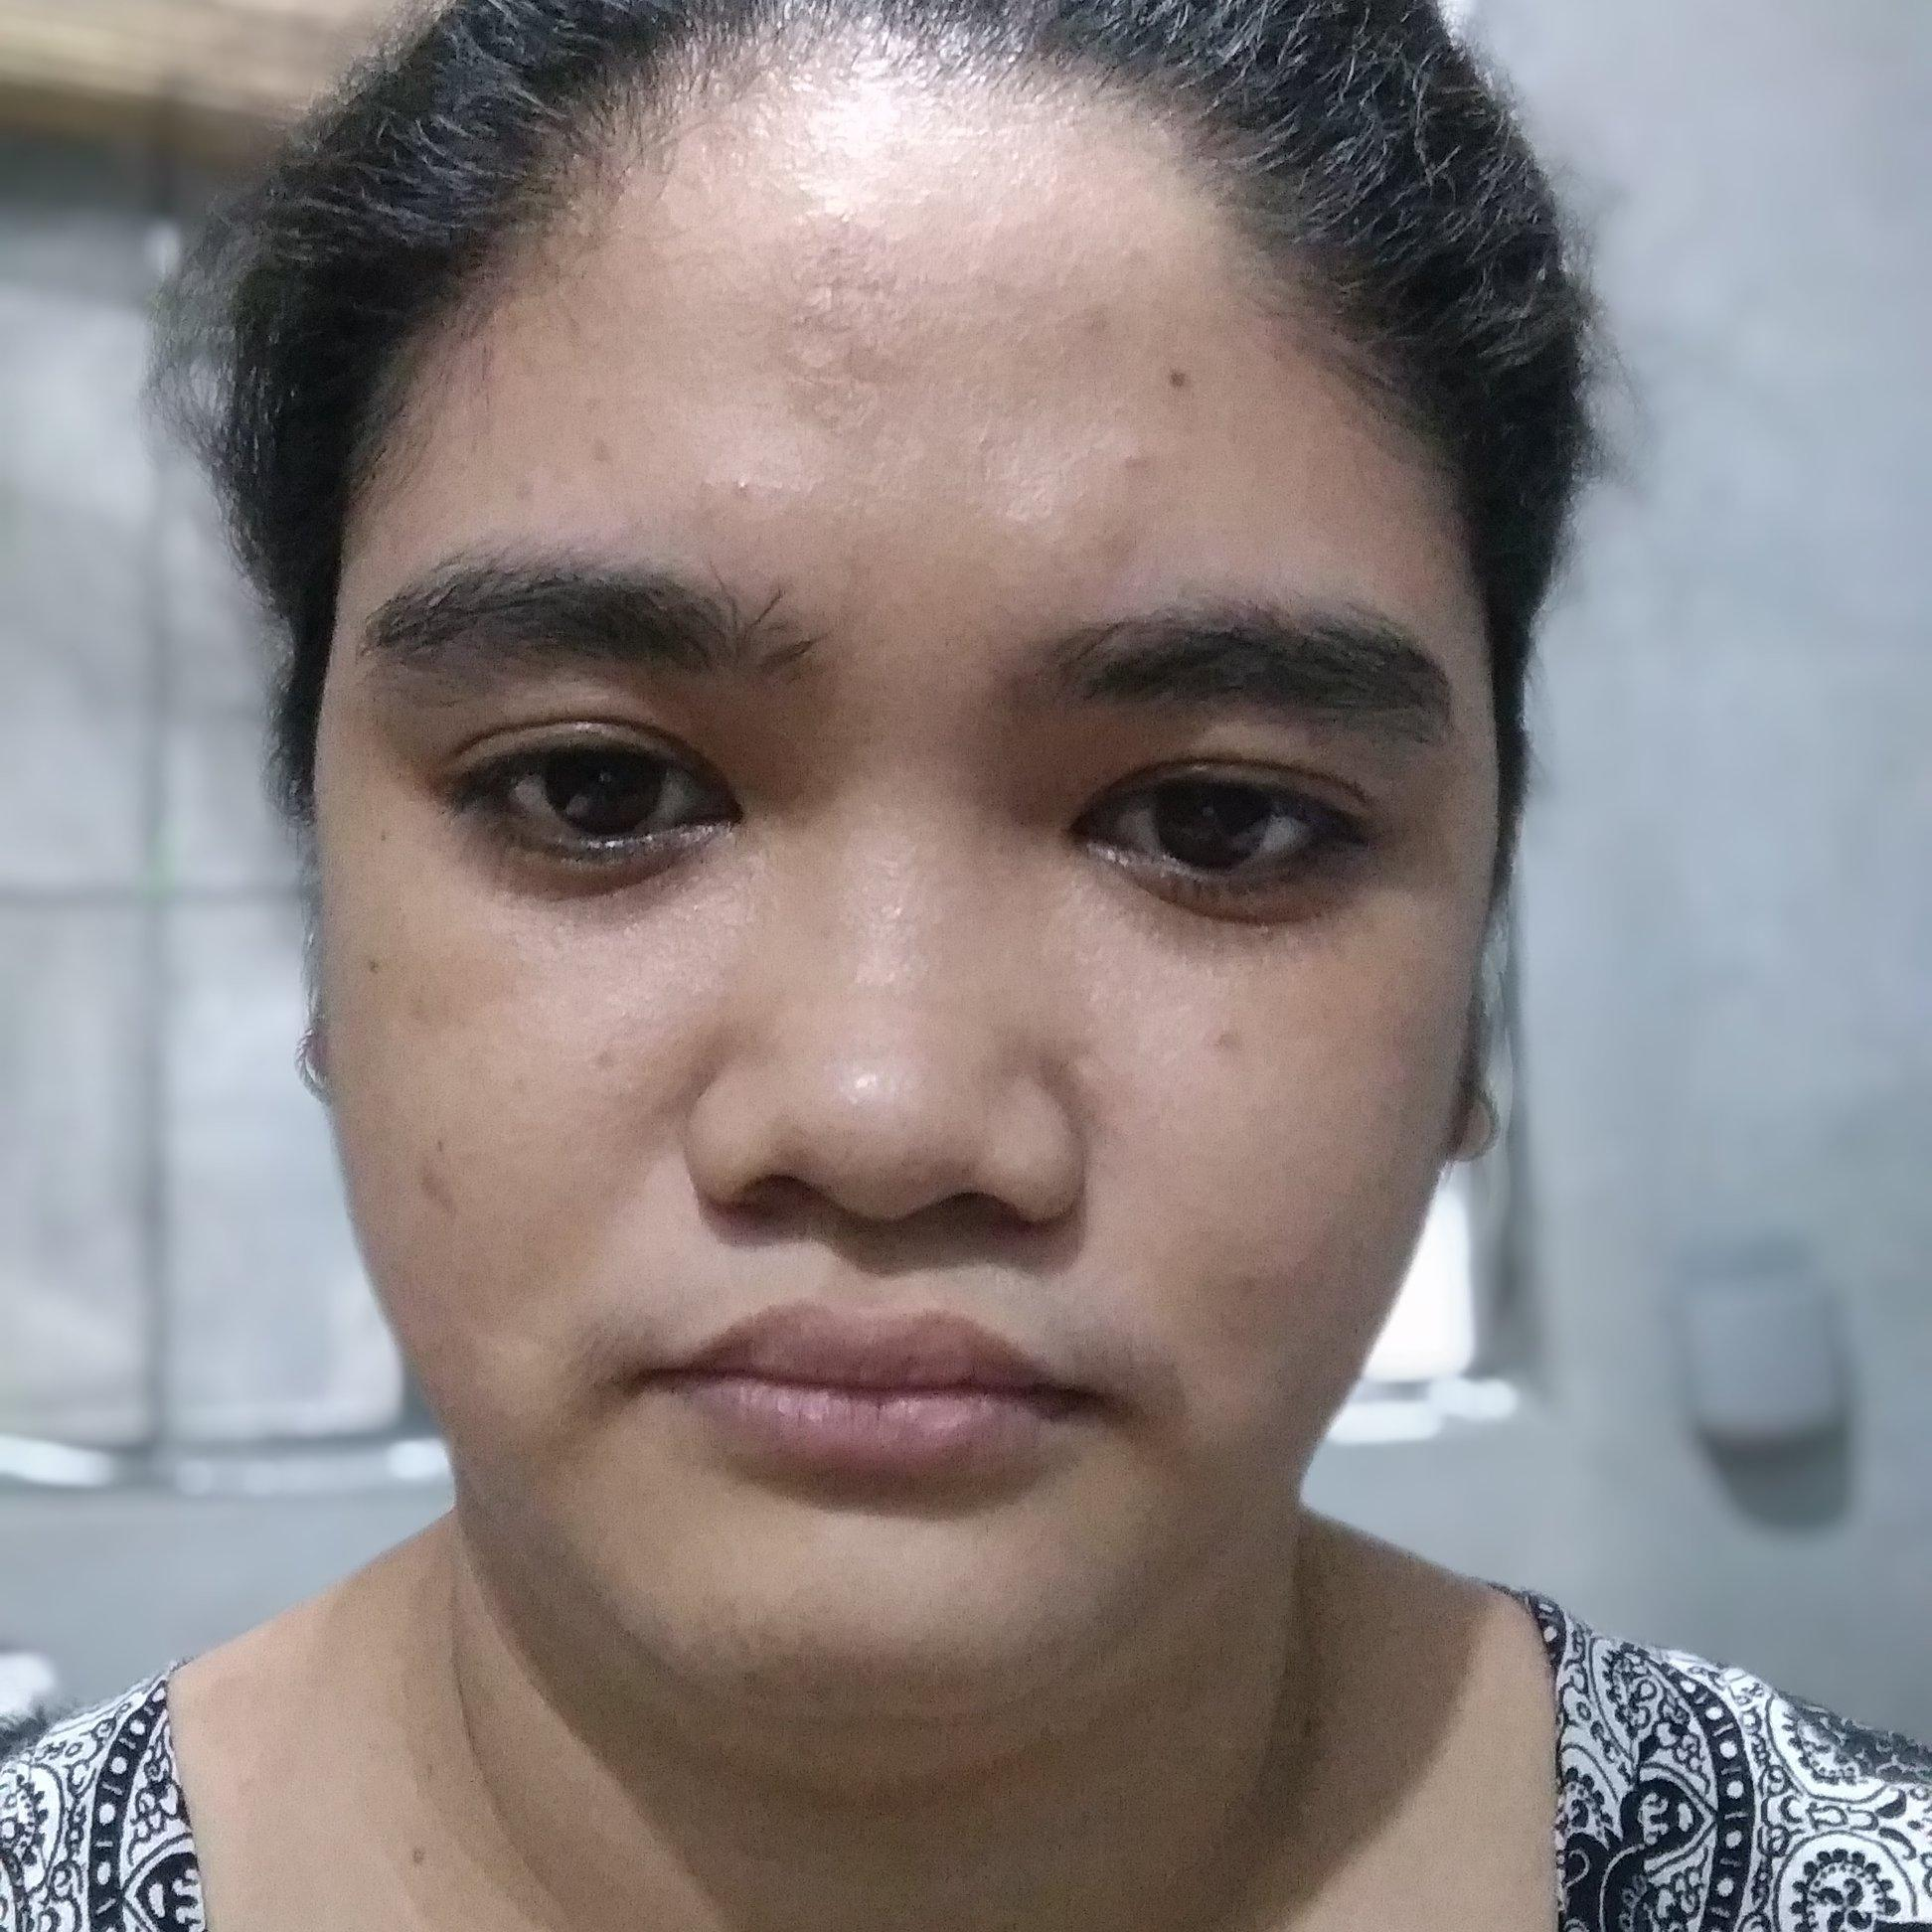Acne: (402, 1148, 469, 1228), (577, 1030, 628, 1081), (1115, 433, 1162, 488), (1205, 1014, 1254, 1062), (1230, 1267, 1276, 1311), (724, 462, 763, 511)
Eyebags: (1077, 860, 1380, 978), (451, 846, 771, 948)
Wrinkles: (582, 1129, 674, 1246)
